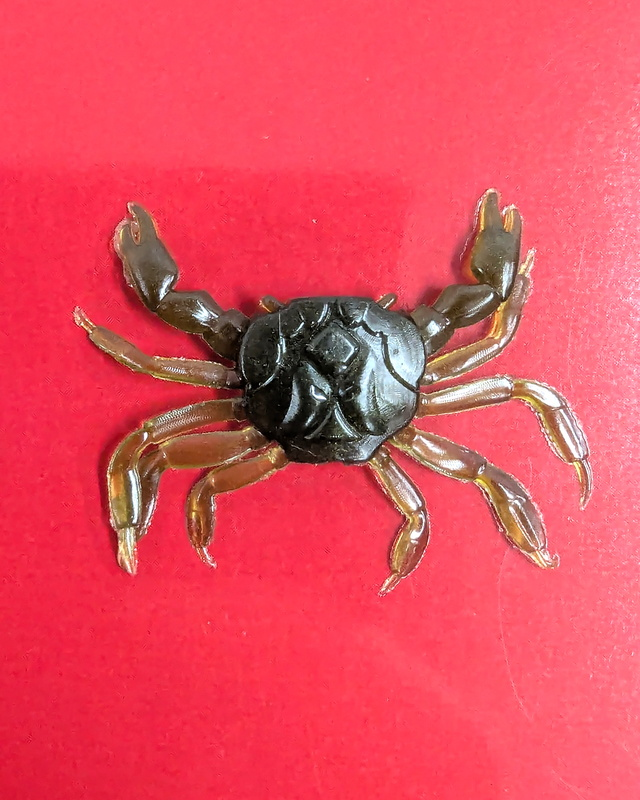crab2: (68, 187, 597, 595)
